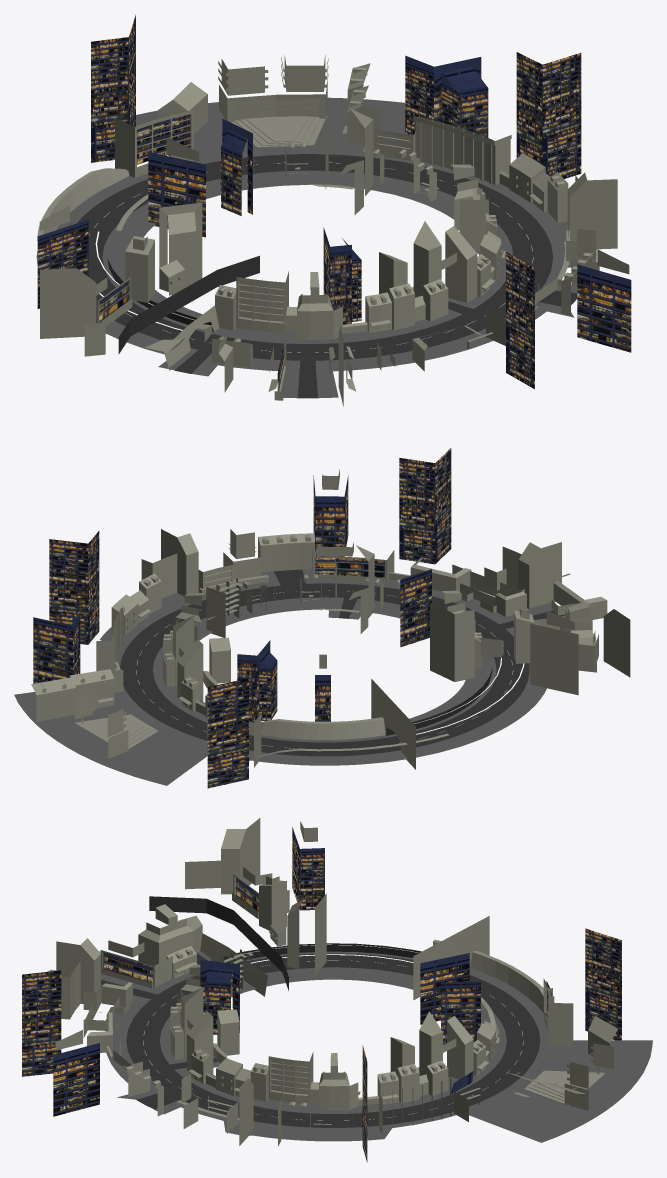
Rendered from road-v2.glb.
3 renders of one model, top to bottom at view 1: azimuth 30°, elevation 25°; view 2: azimuth 150°, elevation 25°; view 3: azimuth 270°, elevation 25°, orthographic. The views are drawn at different scales.
Visible parts, largest first — view 1: Road; view 2: Road; view 3: Road.
Boxes of the visible parts, box(x1,y1,x2,y2) form: Road: box(36, 14, 631, 406); Road: box(14, 448, 630, 788); Road: box(22, 818, 652, 1162).
Bounding box in the file's own units: 251 × 50.64 × 267.
Materials: 6 (1 with a texture image).
